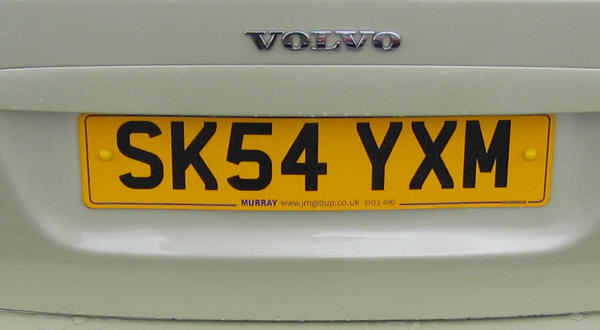license_plate: (81, 114, 550, 204)
